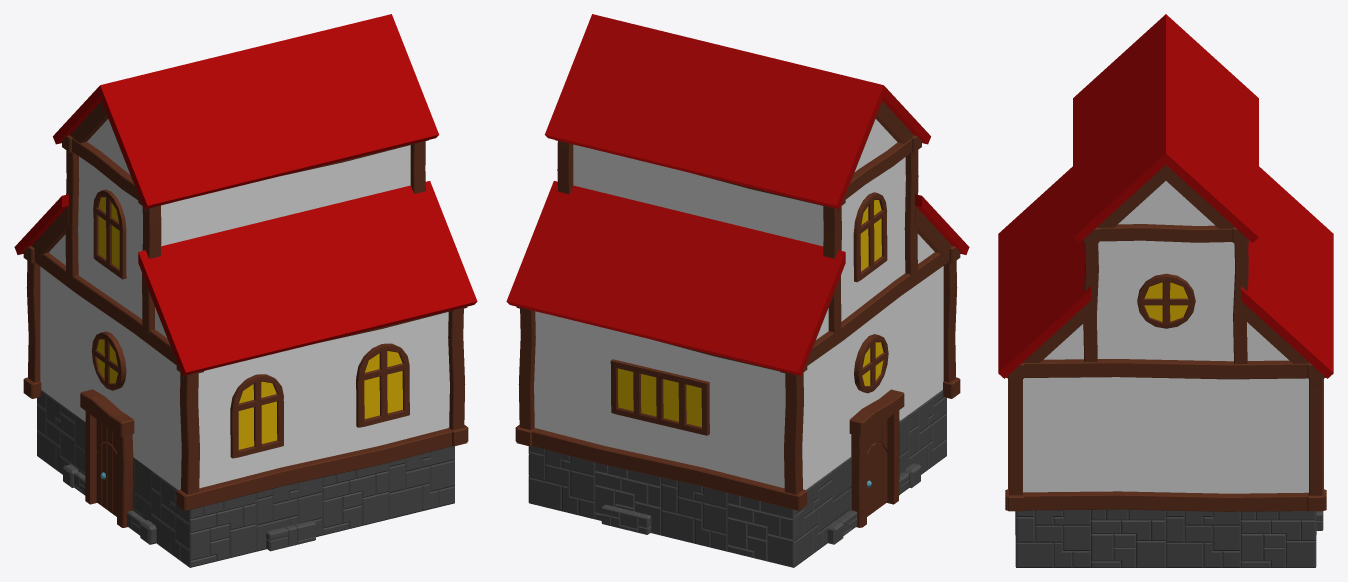
The model's file is Full_House_6.fbx.
3 renders of one model, left to right at view 1: azimuth 30°, elevation 25°; view 2: azimuth 150°, elevation 25°; view 3: azimuth 270°, elevation 25°, orthographic. The views are drawn at different scales.
Visible parts, largest first — view 1: Wall_Large (×2), Stone_Wall_LOD0, Roof_Edge_10, Roof_Edge_11, Roof_Edge9, Roof_Edge10, Roof_Middle35, Roof_Middle36, Roof_Middle34, Roof_Middle37, Frame_1 (×3), Beam25 (+24 smaller); view 2: Wall_Large (×2), Stone_Wall_LOD0, Roof_Edge8, Roof_Edge, Roof_Edge_9, Roof_Edge_1, Roof_Middle33, Roof_Middle31, Roof_Middle, Roof_Middle32, Window_Large, Beam26 (+24 smaller); view 3: Wall_Large, Stone_Wall_LOD0, Wall_small, Roof_Edge_9, Roof_Edge9, Roof_Edge_1, Roof_Edge10, Beam27, Beam, Roof_Edge_10, Roof_Edge8, Roof_Middle32 (+18 smaller).
Boxes of the visible parts, x1,y1,x2,y2 form: Wall_Large (×2): [161, 145, 449, 488]; Stone_Wall_LOD0: [37, 390, 454, 567]; Roof_Edge_10: [100, 66, 226, 211]; Roof_Edge_11: [138, 232, 265, 378]; Roof_Edge9: [312, 14, 439, 157]; Roof_Edge10: [350, 181, 477, 324]; Roof_Middle35: [246, 33, 359, 173]; Roof_Middle36: [218, 216, 331, 356]; Roof_Middle34: [180, 49, 293, 189]; Roof_Middle37: [284, 200, 397, 340]; Frame_1 (×3): [93, 189, 409, 458]; Beam25: [176, 425, 468, 510]; Wall_Large (×2): [534, 144, 823, 488]; Stone_Wall_LOD0: [528, 390, 946, 567]; Roof_Edge8: [757, 66, 883, 211]; Roof_Edge: [718, 232, 845, 378]; Roof_Edge_9: [544, 14, 671, 157]; Roof_Edge_1: [506, 181, 633, 324]; Roof_Middle33: [624, 33, 737, 173]; Roof_Middle31: [652, 216, 765, 356]; Roof_Middle: [586, 200, 699, 340]; Roof_Middle32: [690, 49, 803, 189]; Window_Large: [610, 359, 709, 435]; Beam26: [515, 425, 807, 510]; Wall_Large: [1023, 377, 1308, 493]; Stone_Wall_LOD0: [1015, 509, 1316, 567]; Wall_small: [1097, 240, 1234, 361]; Roof_Edge_9: [1166, 115, 1258, 248]; Roof_Edge9: [1073, 115, 1165, 248]; Roof_Edge_1: [1241, 258, 1333, 383]; Roof_Edge10: [998, 257, 1090, 383]; Beam27: [1005, 489, 1326, 511]; Beam: [1006, 359, 1325, 379]; Roof_Edge_10: [1073, 14, 1165, 135]; Roof_Edge8: [1166, 14, 1258, 135]; Roof_Middle32: [1166, 52, 1258, 167].
Size of what is drawn, in the model's own units: 0.044 by 0.0621 by 0.0448.
